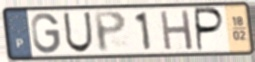1: (134, 11, 153, 52)
G: (30, 11, 62, 55)
H: (158, 9, 195, 53)
P: (91, 10, 128, 54), (194, 7, 226, 53)
U: (62, 11, 95, 55)
